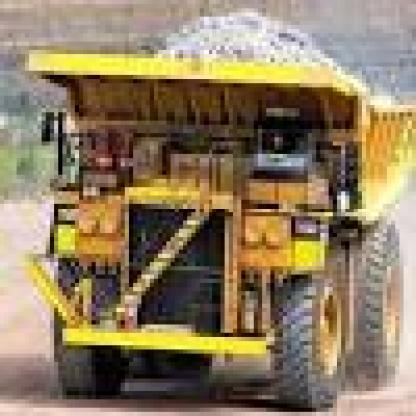dump_truck: (16, 13, 412, 395)
